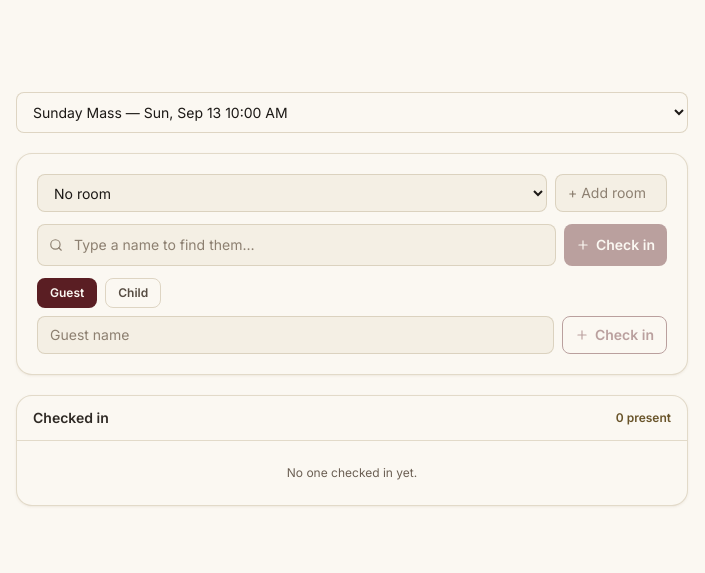
Test: staff check-in member search › two letters find Maria and hide Jose who is already present
The width and height of the screenshot is (705, 573).
Type "Ru" into the search field named "search a member to check in".
click(296, 245); type("Ru")  # box [37,224,556,266]
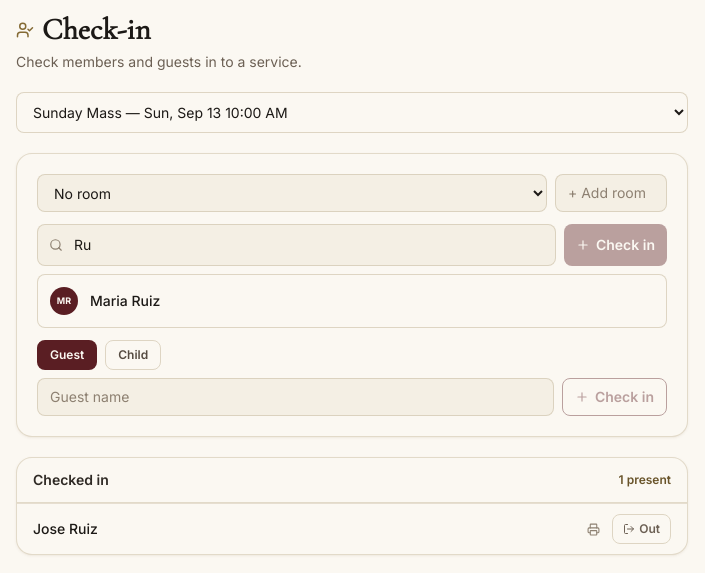
Expected: the button "MR Maria Ruiz" is shown, [38,275,666,327]
